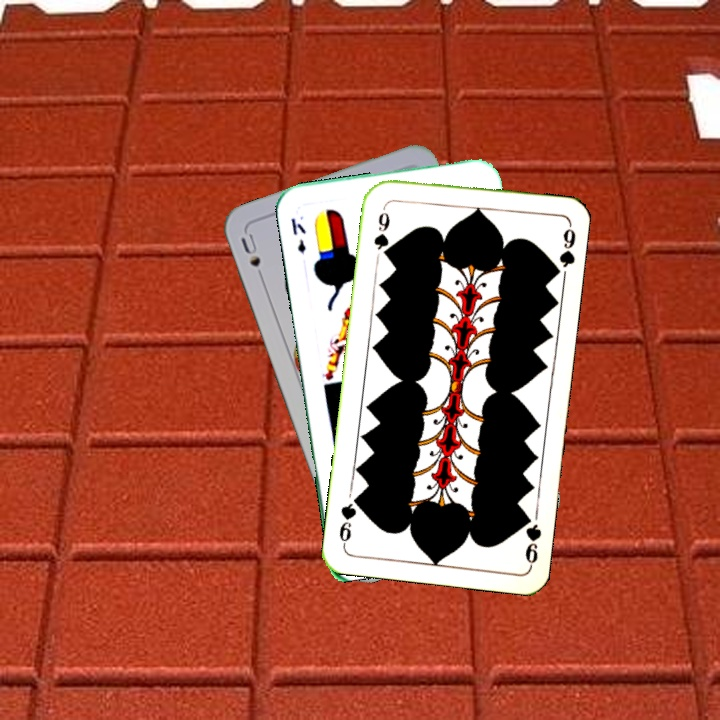EK: (286, 213, 309, 255)
G9: (519, 509, 544, 569), (369, 201, 392, 260)
SU: (236, 229, 268, 286)
